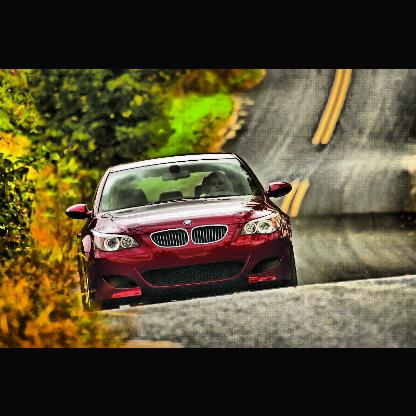BMW M5 Sedan 2010: (66, 154, 299, 312)
